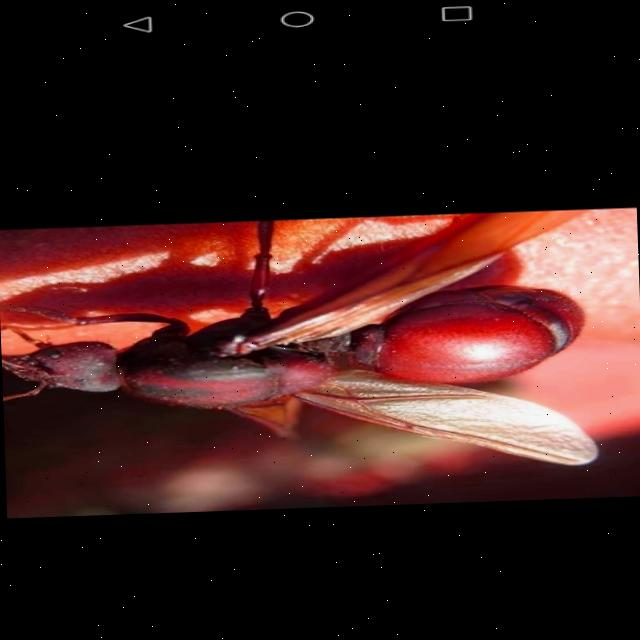Alive-Female-Alate: (0, 210, 598, 486)
